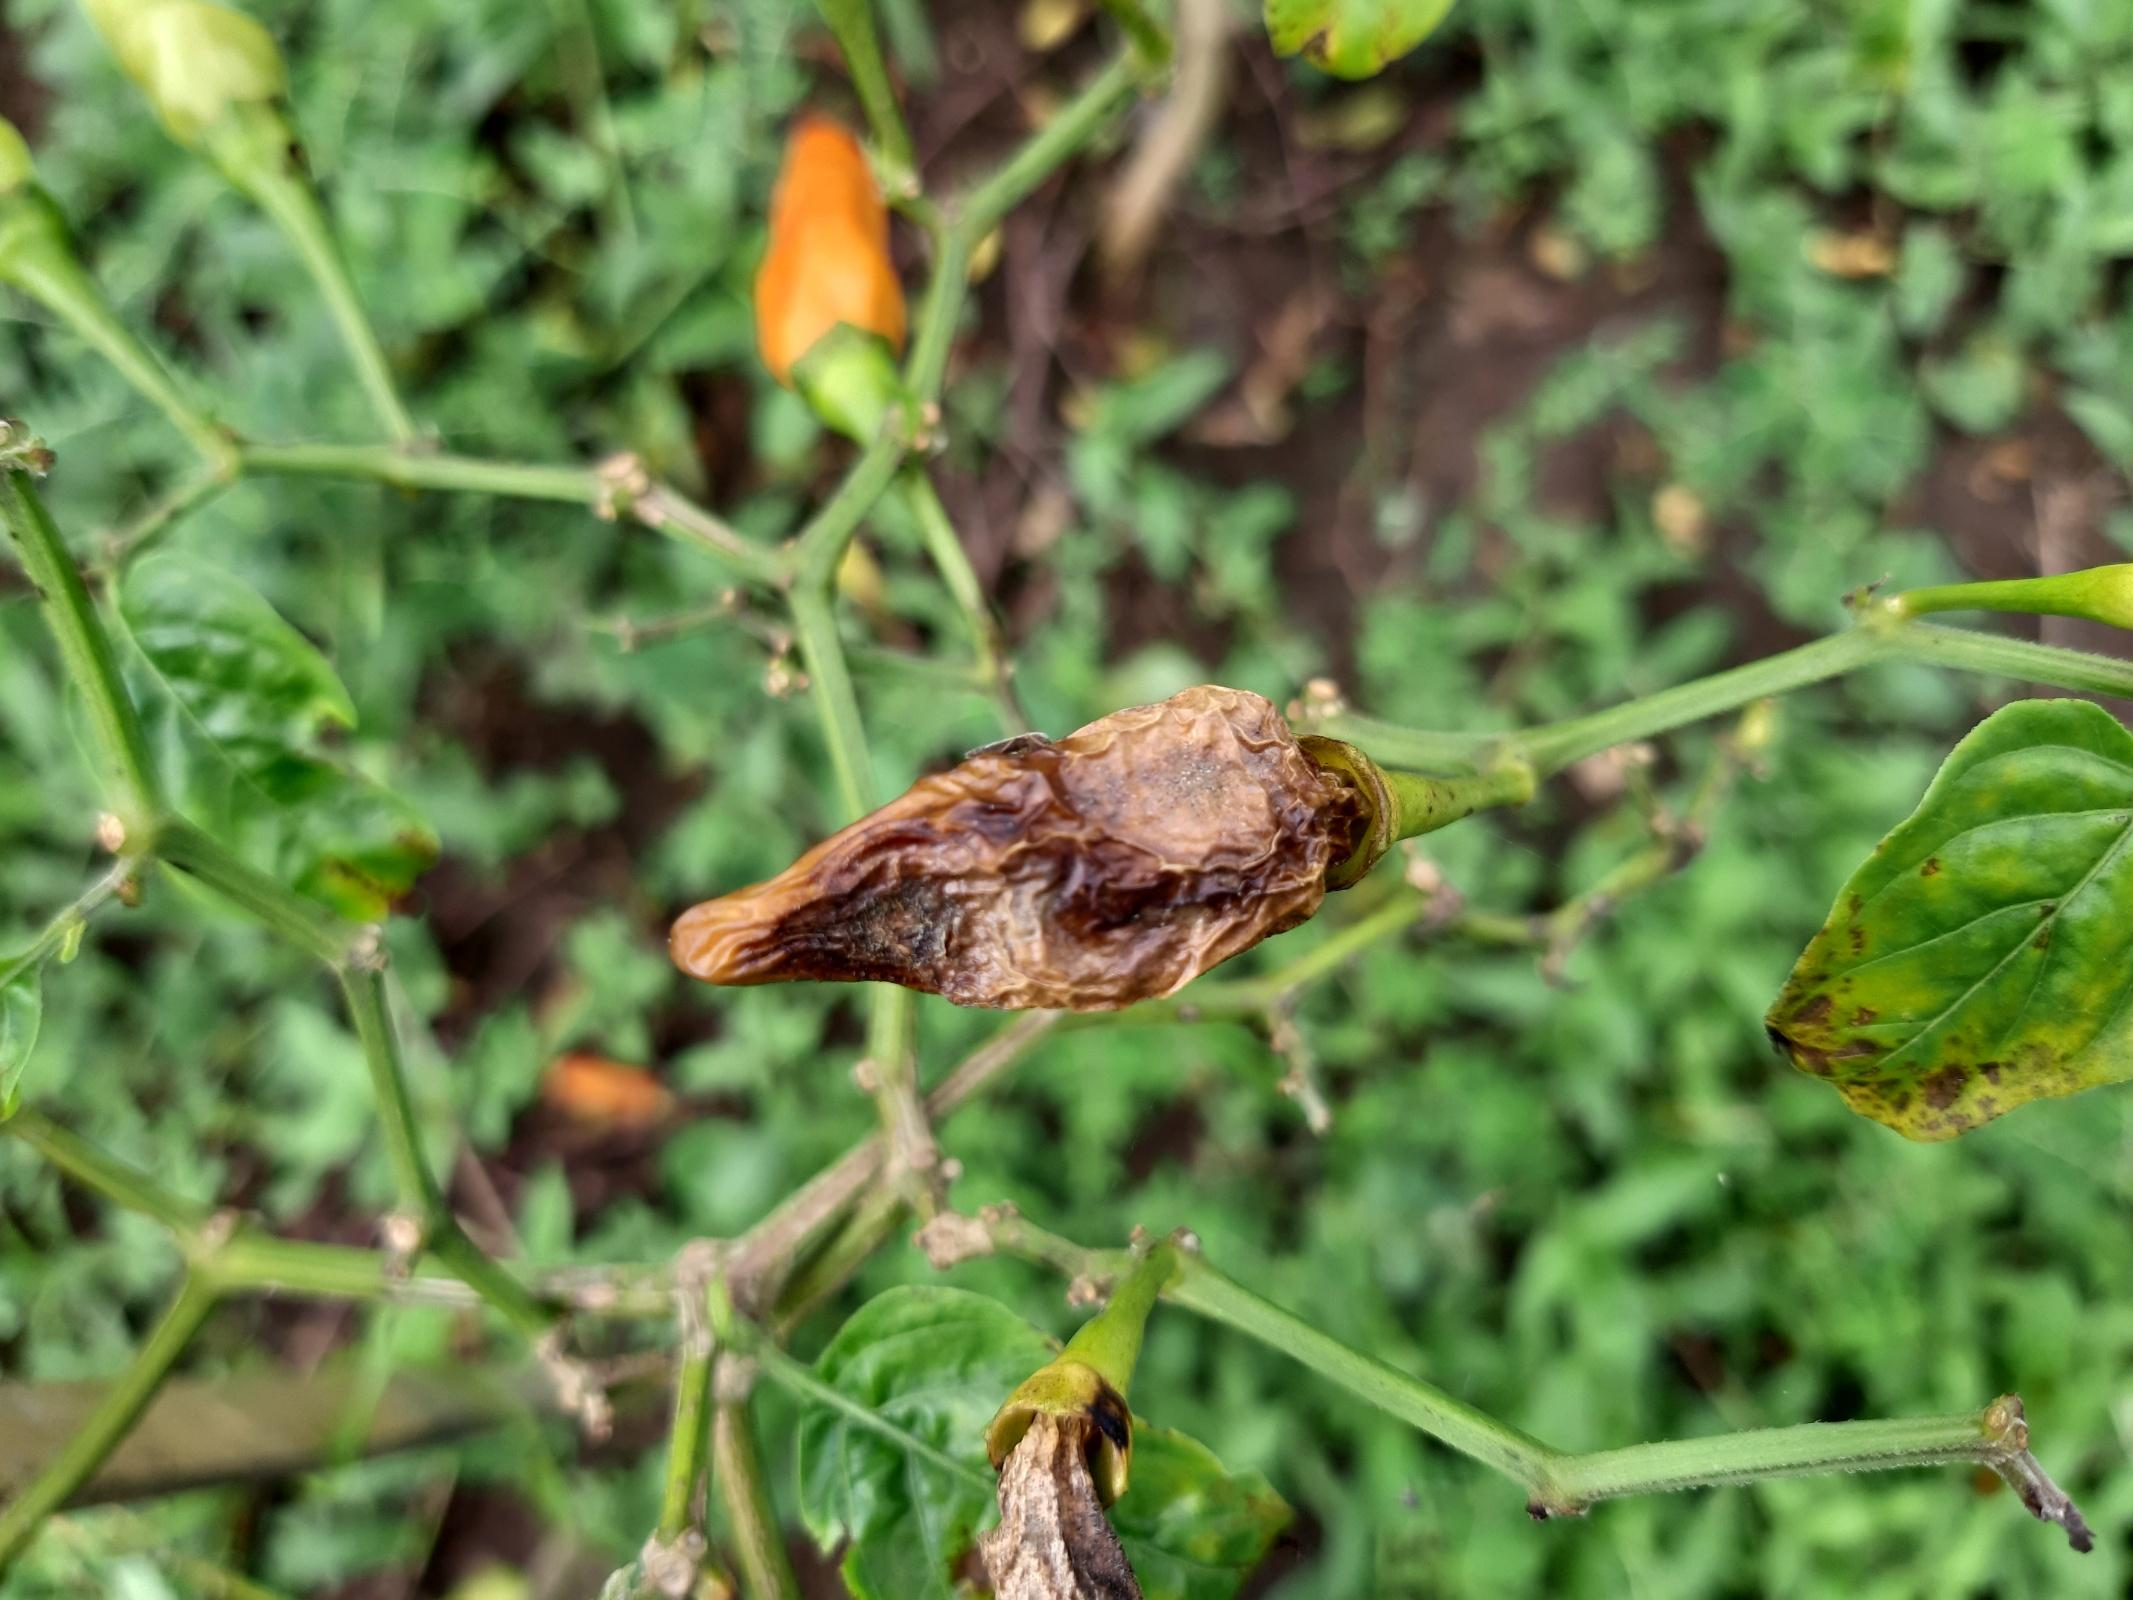antraknosa: (662, 679, 1378, 1013), (982, 1435, 1155, 1600)
cabai_normal: (763, 124, 906, 363)
